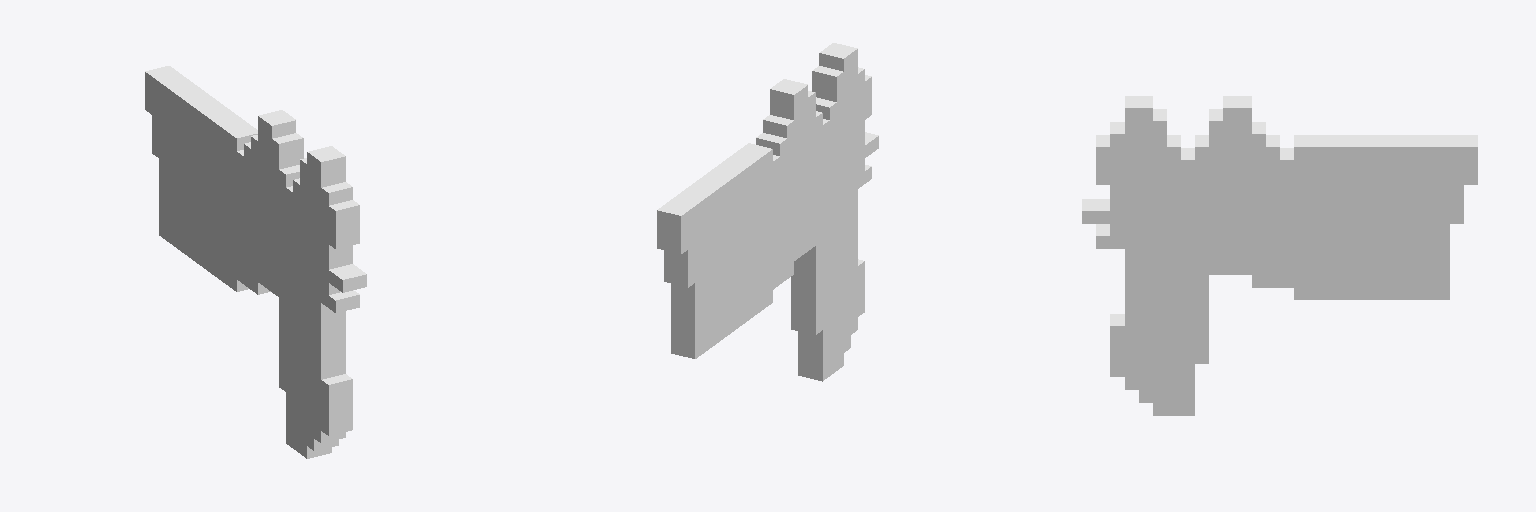
Rendered from GUn.obj.
3 views of the same model, side by side, from view 1: azimuth 30°, elevation 25°; view 2: azimuth 150°, elevation 25°; view 3: azimuth 270°, elevation 25° (orthographic).
Visible parts, largest first — view 1: chat gun; view 2: chat gun; view 3: chat gun.
Part boxes in pixels (x1,y1,x2,y2): chat gun: (145,66,366,458); chat gun: (657,43,878,381); chat gun: (1082,96,1477,415).
Size of the model in its own units: 0.2 by 2.4 by 2.8.